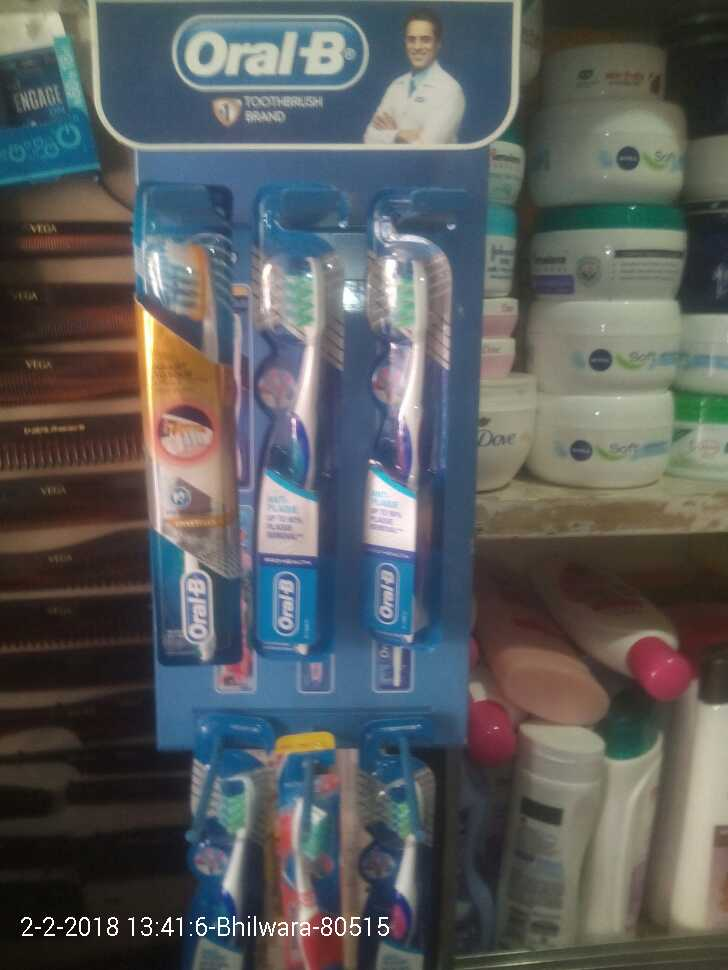oralb: (137, 195, 257, 660), (240, 213, 336, 649), (376, 198, 450, 649)
